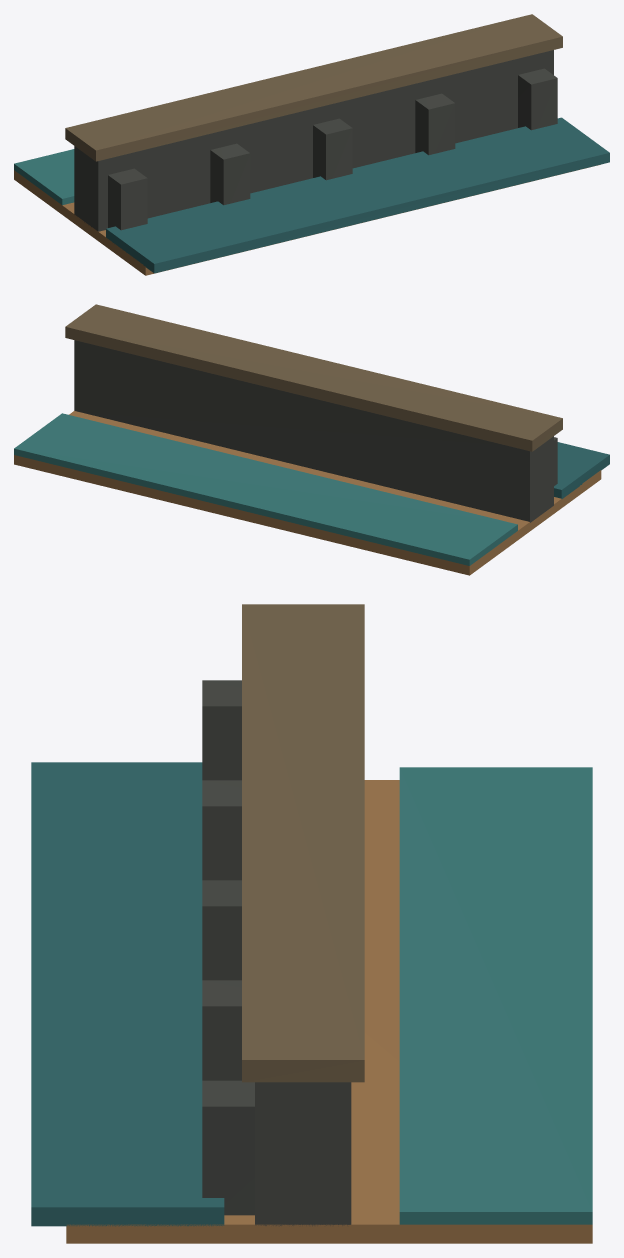
Rendered from Seawall.glb.
3 views of the same model, one above another, from view 1: azimuth 30°, elevation 25°; view 2: azimuth 150°, elevation 25°; view 3: azimuth 270°, elevation 25° (orthographic). The views are drawn at different scales.
Parts seen in each view (by area): view 1: seawall-static-seawall-concrete, seawall-static-seawall-mark, seawall-static-seawall-cap, seawall-static-seawall-water, seawall-static-seawall-earth; view 2: seawall-static-seawall-concrete, seawall-static-seawall-water, seawall-static-seawall-cap, seawall-static-seawall-earth, seawall-static-seawall-mark; view 3: seawall-static-seawall-water, seawall-static-seawall-mark, seawall-static-seawall-cap, seawall-static-seawall-concrete, seawall-static-seawall-earth.
Boxes of the visible parts, x1=… form: seawall-static-seawall-concrete: x1=74, y1=50, x2=557, y2=231; seawall-static-seawall-mark: x1=106, y1=117, x2=609, y2=273; seawall-static-seawall-cap: x1=65, y1=14, x2=562, y2=161; seawall-static-seawall-water: x1=14, y1=149, x2=74, y2=205; seawall-static-seawall-earth: x1=14, y1=164, x2=600, y2=275; seawall-static-seawall-concrete: x1=74, y1=340, x2=557, y2=522; seawall-static-seawall-water: x1=14, y1=413, x2=517, y2=565; seawall-static-seawall-cap: x1=65, y1=304, x2=562, y2=451; seawall-static-seawall-earth: x1=14, y1=411, x2=601, y2=575; seawall-static-seawall-mark: x1=554, y1=442, x2=609, y2=498; seawall-static-seawall-water: x1=399, y1=767, x2=592, y2=1224; seawall-static-seawall-mark: x1=31, y1=762, x2=224, y2=1226; seawall-static-seawall-cap: x1=242, y1=604, x2=364, y2=1082; seawall-static-seawall-concrete: x1=202, y1=680, x2=351, y2=1226; seawall-static-seawall-earth: x1=66, y1=780, x2=592, y2=1243.
Size of the model in its own units: 6.15 by 1.19 by 3.2.
